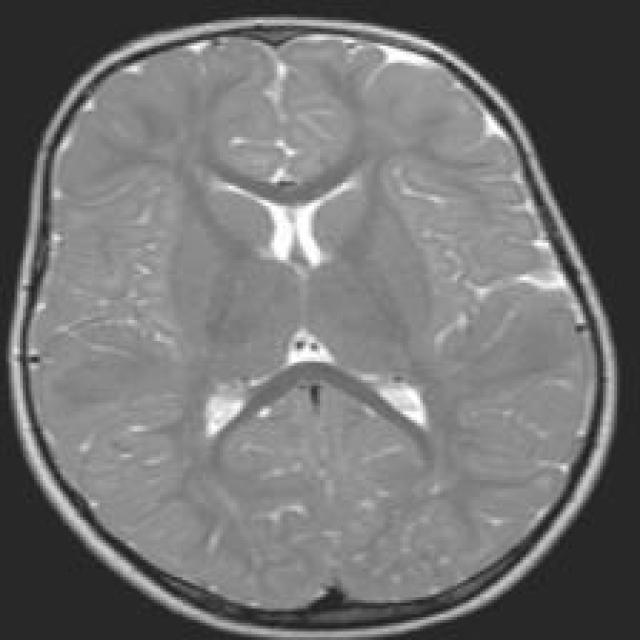no_tumor: (4, 10, 626, 640)
